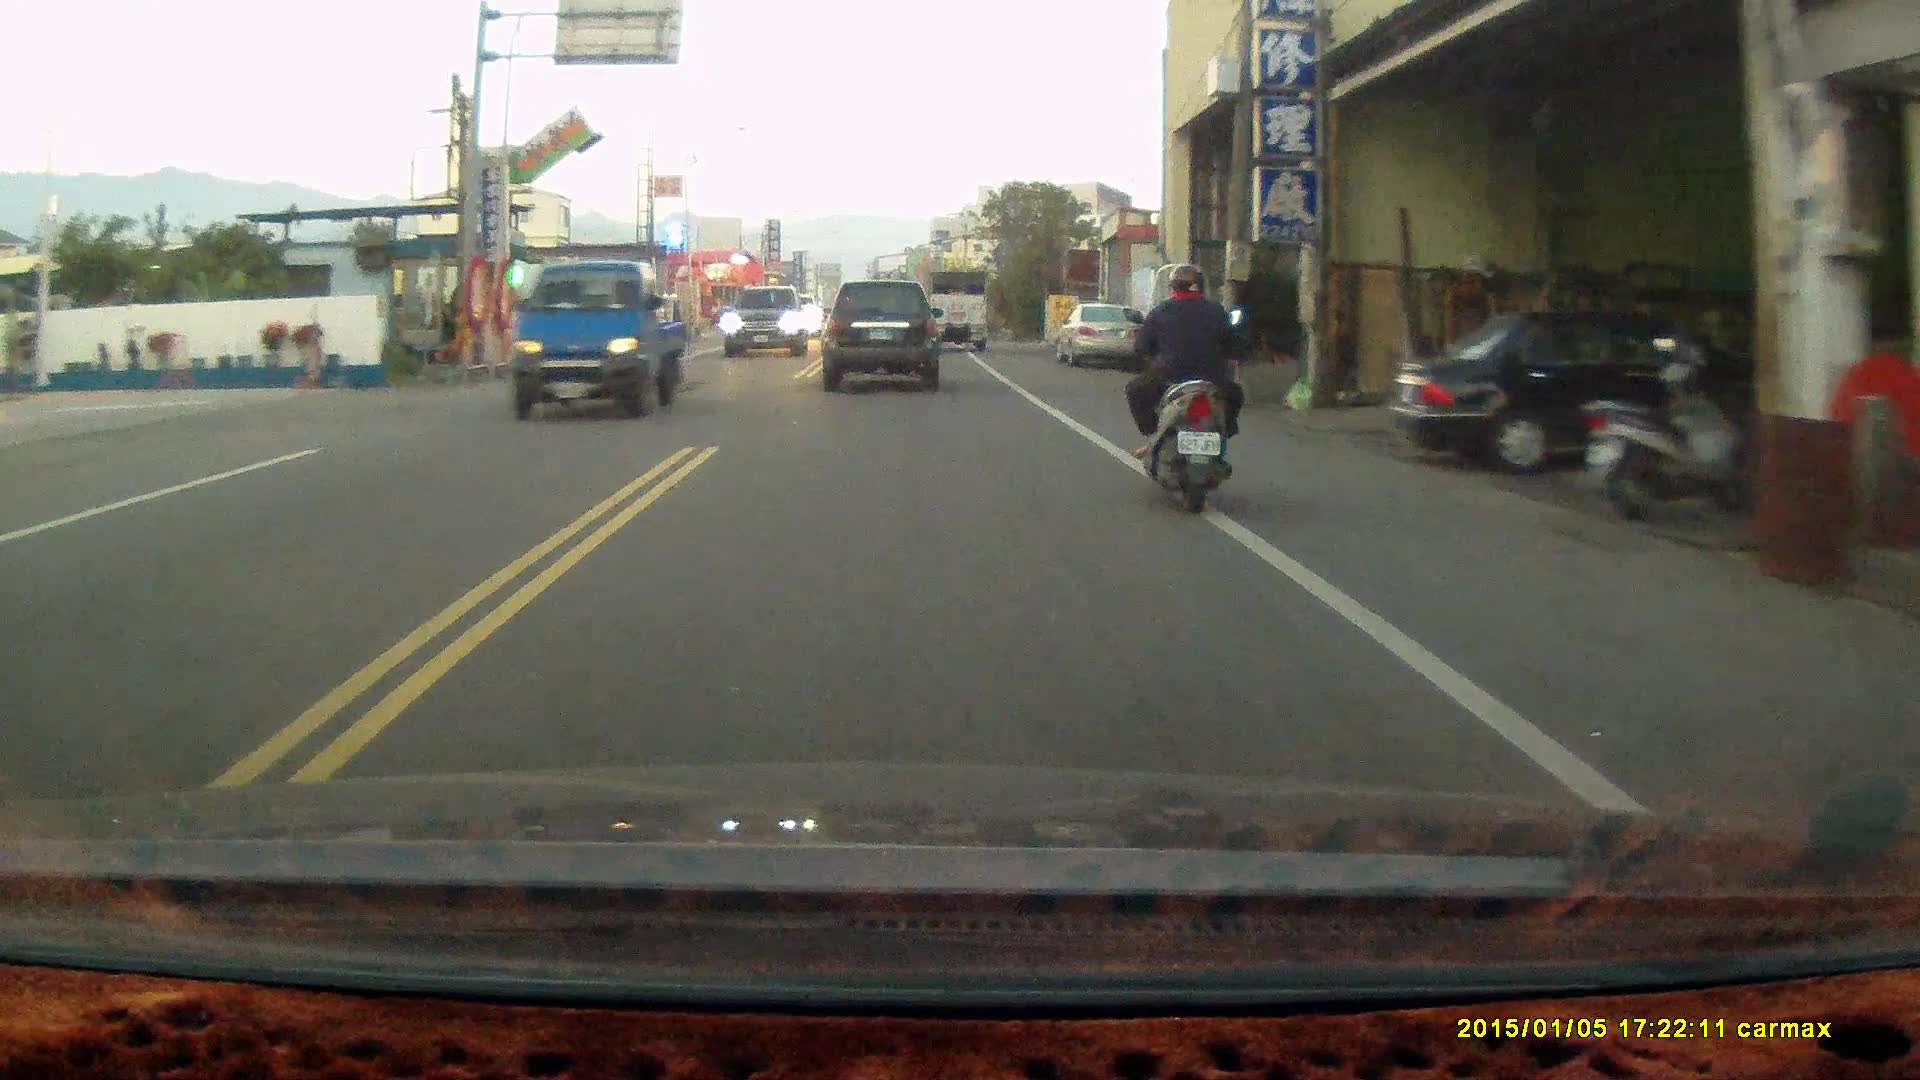rider: (1118, 259, 1243, 516)
vehicle: (1387, 301, 1791, 479), (507, 262, 691, 420), (823, 277, 942, 388), (1052, 299, 1150, 367), (725, 287, 813, 358), (924, 272, 992, 355)
